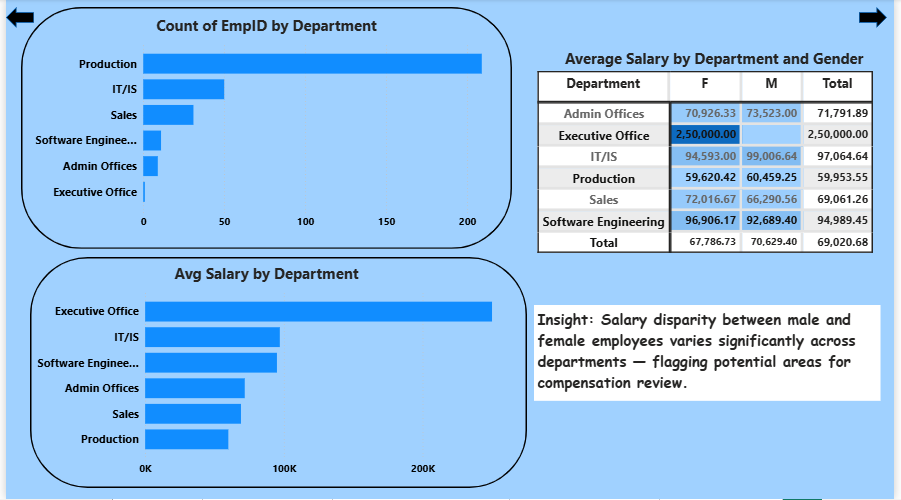

The dashboard page shown, as its layout file describes it:
{"tool":"powerbi","page":{"name":"Work Force Analysis","canvas":[1280,720],"ordinal":3},"visuals":[{"type":"shape","box":[21.6,11.5,707,348.5],"z":0},{"type":"shape","box":[34.6,371.5,715.7,332.6],"z":1000},{"type":"clusteredBarChart","fields":{"Y":["CountNonNull(hr_database_cleaned.EmpID)"],"Category":["hr_database_cleaned.Department"]},"box":[21.8,23.5,707.2,317.5],"z":2000},{"type":"clusteredBarChart","fields":{"Category":["hr_database_cleaned.Department"],"Y":["hr_database_cleaned.Avg Salary"]},"box":[27.4,380.2,695.5,316.8],"z":3000},{"type":"pivotTable","title":"Average Salary by Department and Gender","fields":{"Rows":["hr_database_cleaned.Department"],"Columns":["hr_database_cleaned.Sex"],"Values":["hr_database_cleaned.Avg Salary"]},"box":[760.9,70.6,519.1,317.5],"z":4000},{"type":"textbox","box":[760.9,440.1,498.9,137.7],"z":5000},{"type":"shape","box":[1228.3,11.5,40.3,30.2],"z":6000},{"type":"shape","box":[0,11.5,40.3,30.2],"z":7000}]}

Visuals, with their boxes in screenshot pixels (x1, y1, x2, y2), scaled from the page's 1280x720 canvas onto the 901x500 screenshot:
shape: [left=15, top=8, right=513, bottom=250]
shape: [left=24, top=258, right=528, bottom=489]
clusteredBarChart - CountNonNull(hr_database_cleaned.EmpID) x hr_database_cleaned.Department: [left=15, top=16, right=513, bottom=237]
clusteredBarChart - hr_database_cleaned.Department x hr_database_cleaned.Avg Salary: [left=19, top=264, right=509, bottom=484]
"Average Salary by Department and Gender" pivotTable: [left=536, top=49, right=900, bottom=270]
textbox: [left=536, top=306, right=887, bottom=401]
shape: [left=865, top=8, right=893, bottom=29]
shape: [left=0, top=8, right=28, bottom=29]
